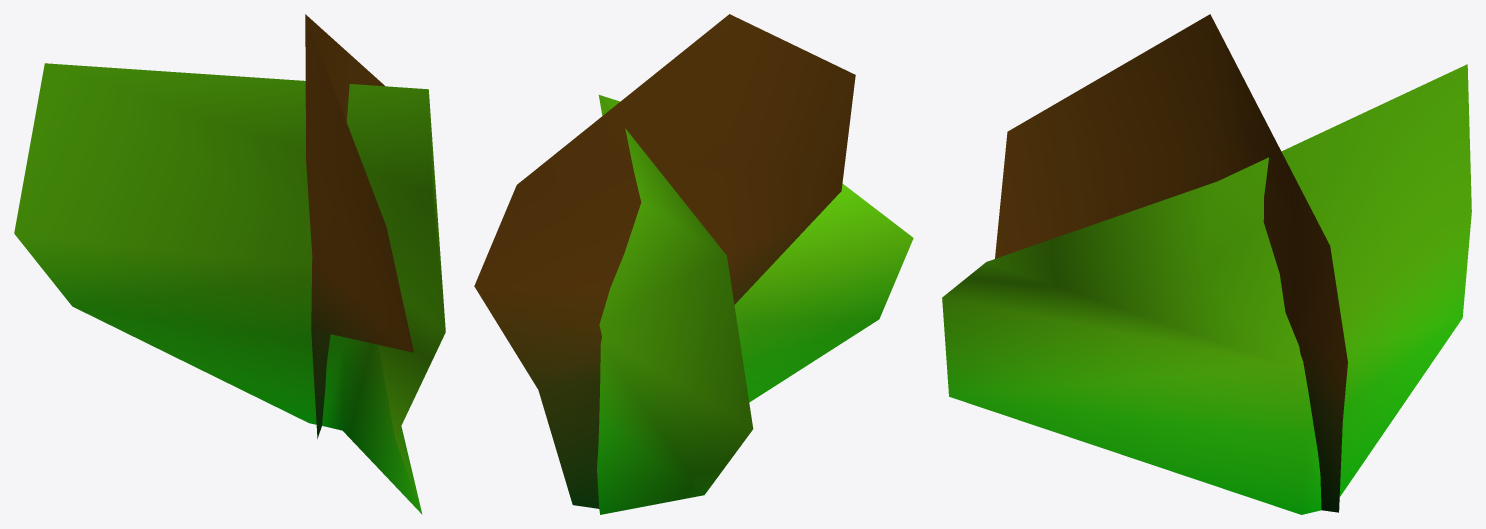
File: Var1Hi35.fbx
The picture shows the model from 3 angles, left to right: view 1: azimuth 30°, elevation 25°; view 2: azimuth 150°, elevation 25°; view 3: azimuth 270°, elevation 25°; orthographic projection. The views are drawn at different scales.
Parts seen in each view (by area): view 1: bend1; view 2: bend1; view 3: bend1.
Part boxes in pixels (<box>): bend1: <box>14,14,445,514</box>; bend1: <box>474,14,913,514</box>; bend1: <box>942,14,1471,514</box>.
Bounding box in the file's own units: 1.04 × 1.38 × 1.42.
